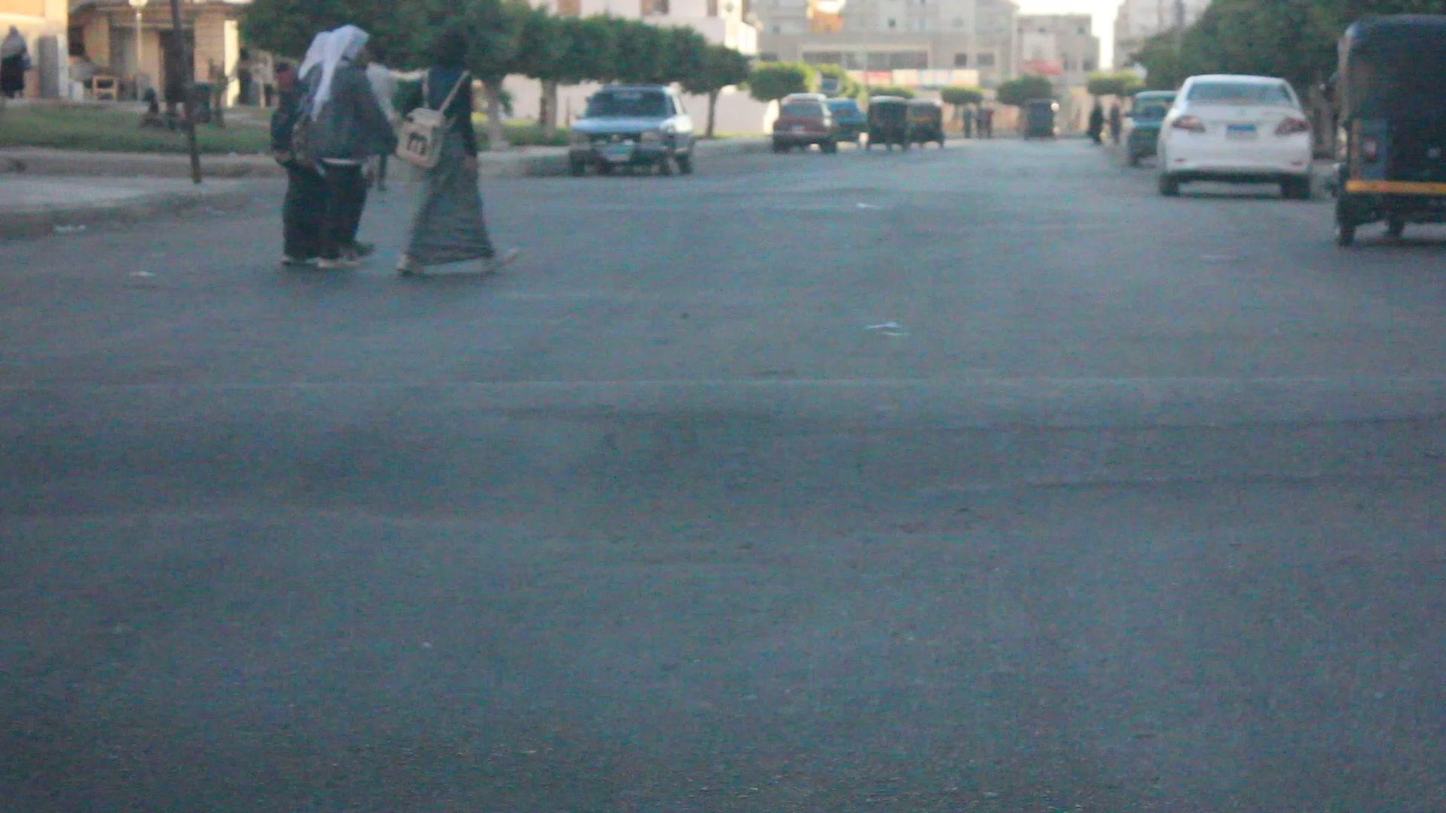Bump: (0, 371, 1446, 527)
